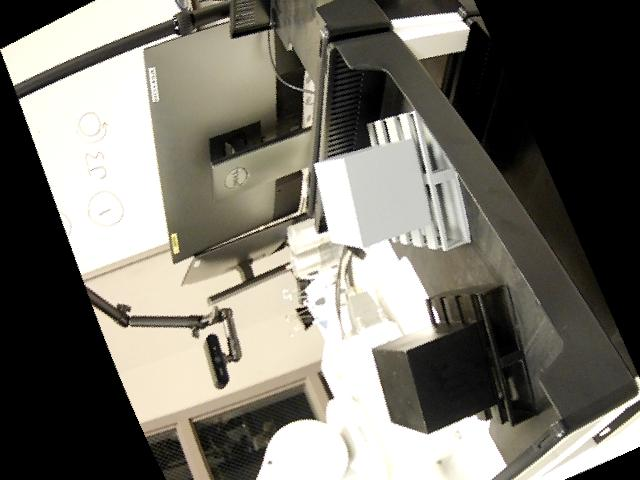black pallet: (367, 280, 543, 438)
white pallet: (309, 109, 472, 256)
